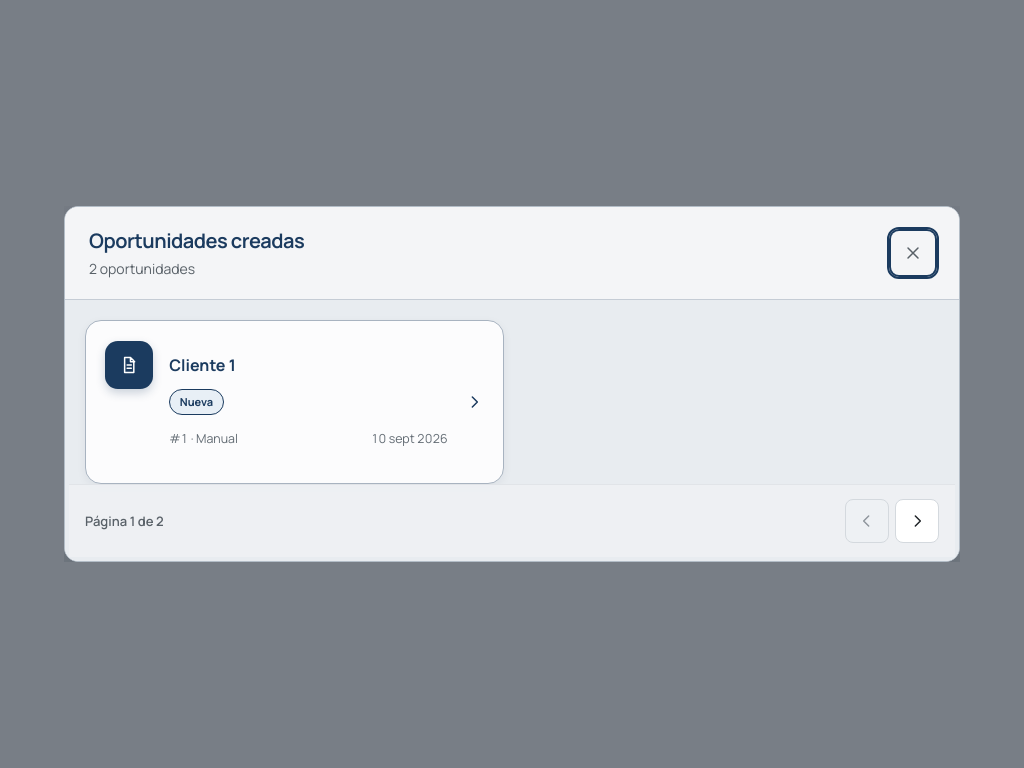
Test: paginates a bounded opportunity drilldown in both directions
The width and height of the screenshot is (1024, 768).
expect the button with aria-label "Abrir oportunidad 1 de Cliente 1" is shown: met, box [85,320,504,484]
Click the button named "Página siguiente".
click(917, 521)  # box [895,499,939,543]
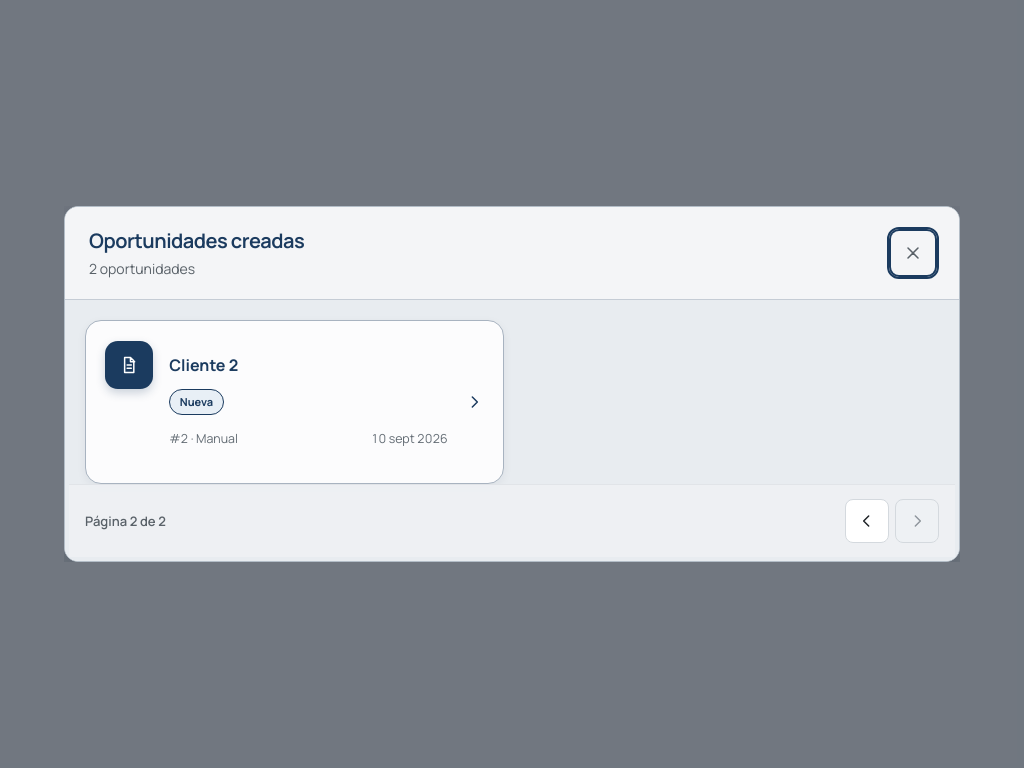
expect the button with aria-label "Abrir oportunidad 2 de Cliente 2" is shown: met, box [85,320,504,484]
Click the button named "Página anterior".
click(867, 521)  # box [845,499,889,543]
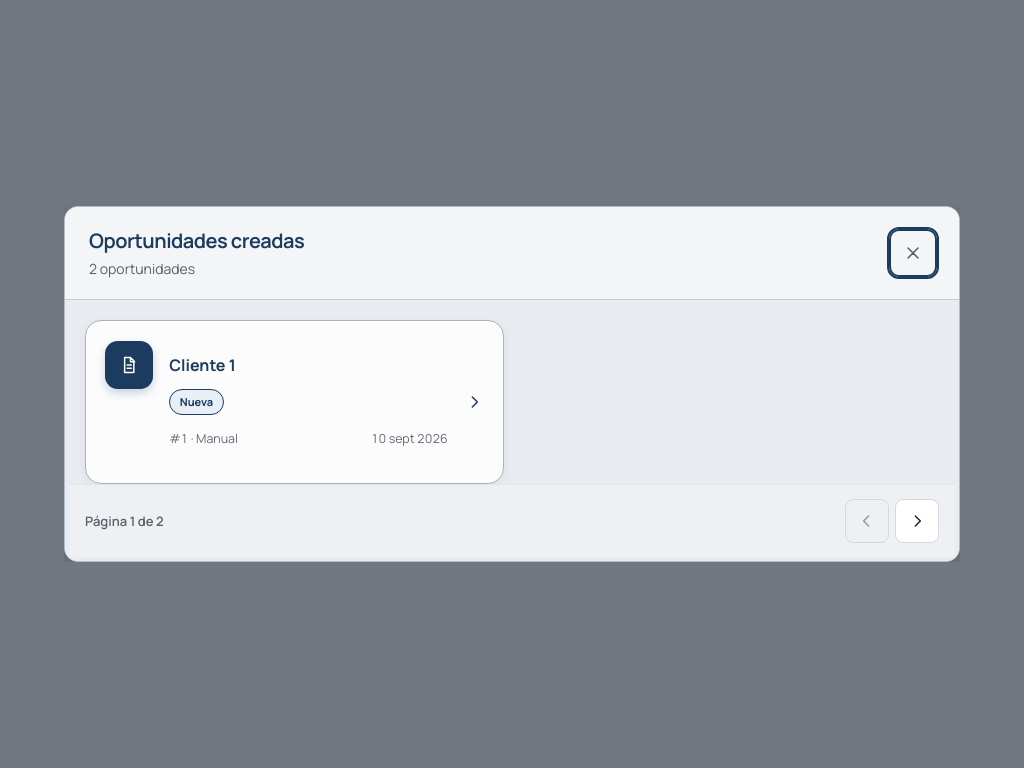
expect the button with aria-label "Abrir oportunidad 1 de Cliente 1" is shown: met, box [85,320,504,484]
